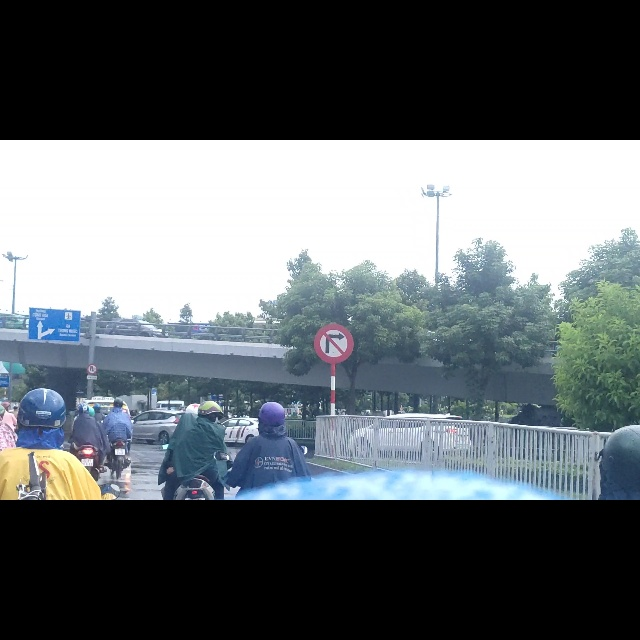bien_cam: (314, 324, 354, 398)
